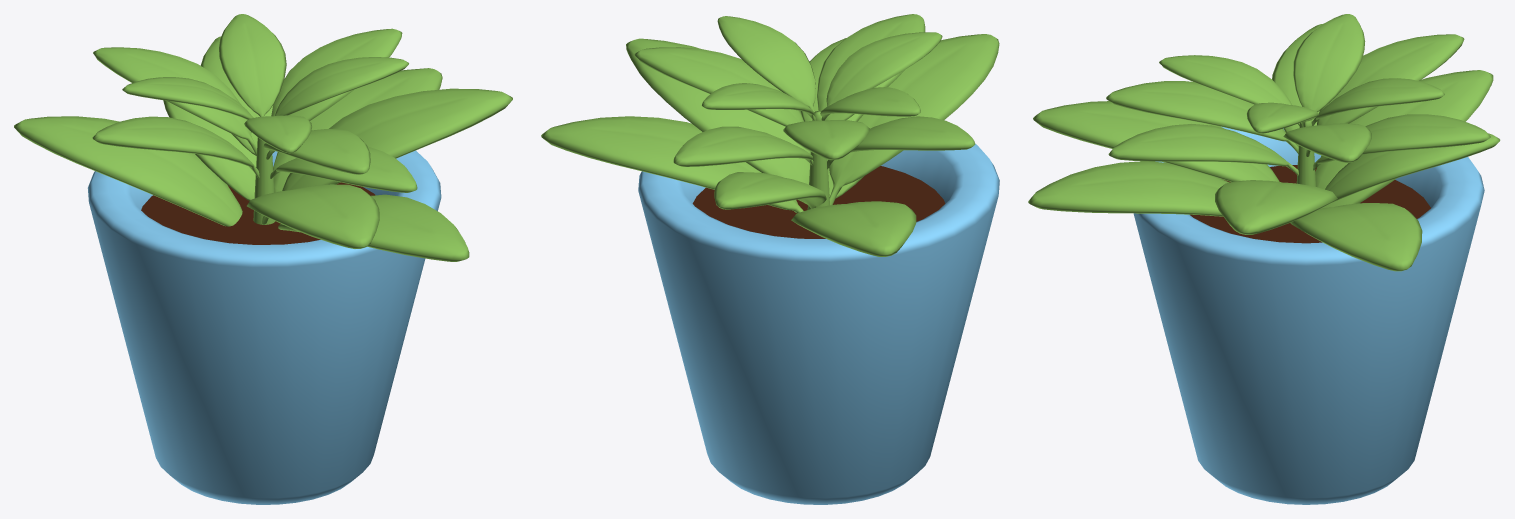
File: SM_plant.glb
The picture shows the model from 3 angles, left to right: view 1: azimuth 30°, elevation 25°; view 2: azimuth 150°, elevation 25°; view 3: azimuth 270°, elevation 25°; orthographic projection. The views are drawn at different scales.
Visible parts, largest first — view 1: SM_plant; view 2: SM_plant; view 3: SM_plant.
Boxes of the visible parts, x1=… form: SM_plant: x1=14, y1=14, x2=512, y2=504; SM_plant: x1=541, y1=14, x2=999, y2=504; SM_plant: x1=1028, y1=14, x2=1500, y2=504.
Size of the model in its own units: 0.4518 by 0.4436 by 0.4764.
1 material, 1 textured.
